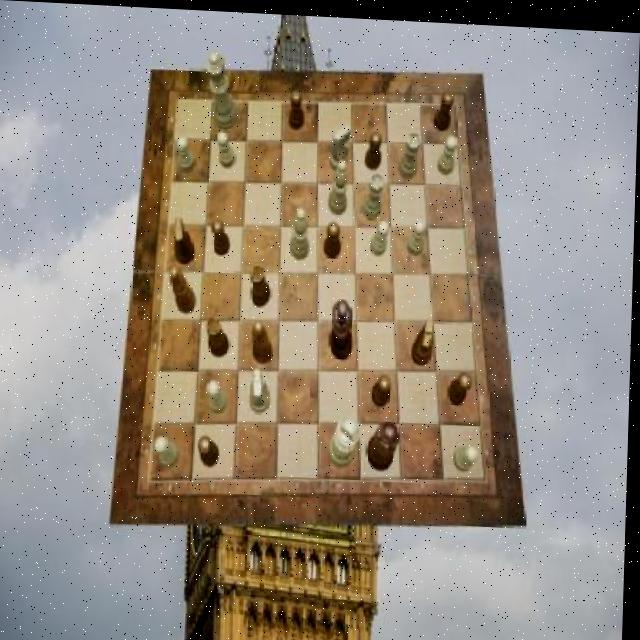bishop: (171, 264, 200, 311), (253, 318, 277, 362)
black-bishop: (332, 296, 356, 358)
black-king: (413, 314, 437, 361), (176, 217, 198, 264)
black-knight: (434, 87, 455, 128), (450, 366, 474, 401), (200, 433, 222, 465), (365, 127, 383, 166), (213, 218, 233, 253), (290, 87, 307, 128), (325, 218, 343, 255), (374, 371, 394, 404)
black-pawn: (368, 415, 402, 468)
black-queen: (207, 314, 232, 356), (252, 261, 274, 306)
black-rook: (329, 155, 350, 212), (291, 204, 313, 258)
white-bishop: (331, 412, 364, 466)
white-king: (330, 120, 352, 170), (250, 366, 274, 411)
white-knight: (439, 131, 460, 171), (159, 434, 184, 466), (176, 134, 197, 172), (209, 378, 231, 413), (218, 128, 238, 166), (408, 214, 427, 252), (456, 439, 481, 466), (372, 215, 390, 252)
white-pawn: (205, 50, 240, 129)
white-queen: (399, 127, 421, 176), (363, 169, 385, 217)
